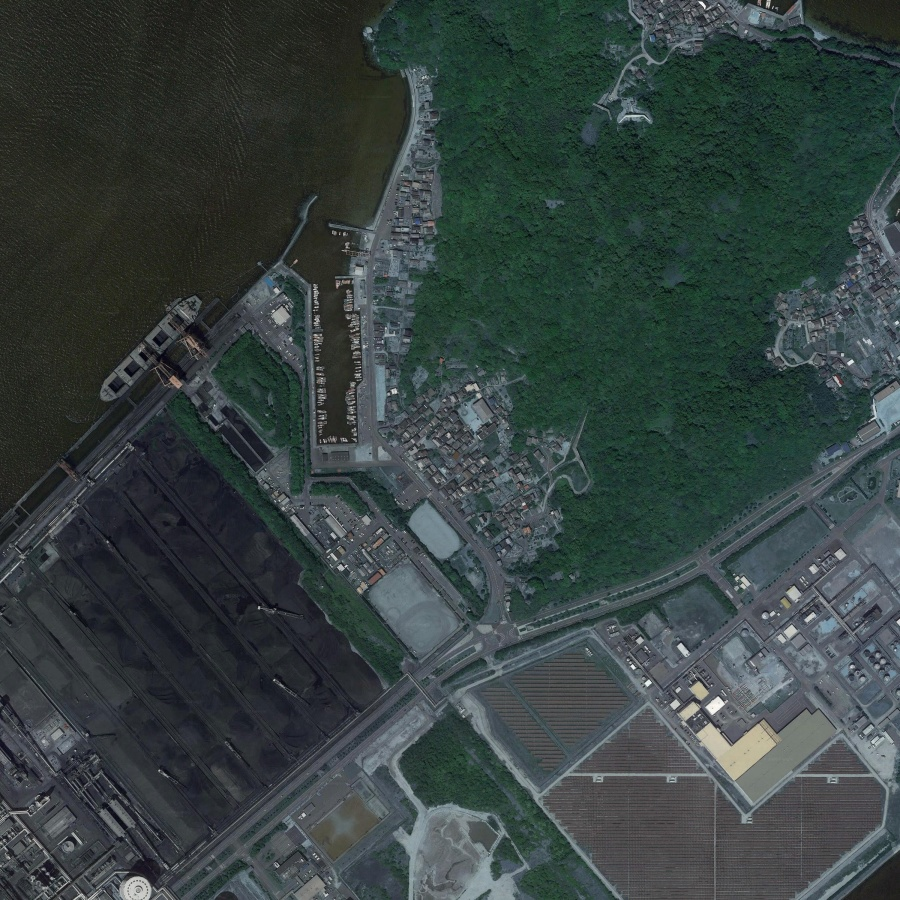PowerPlant: (10, 423, 397, 817)
